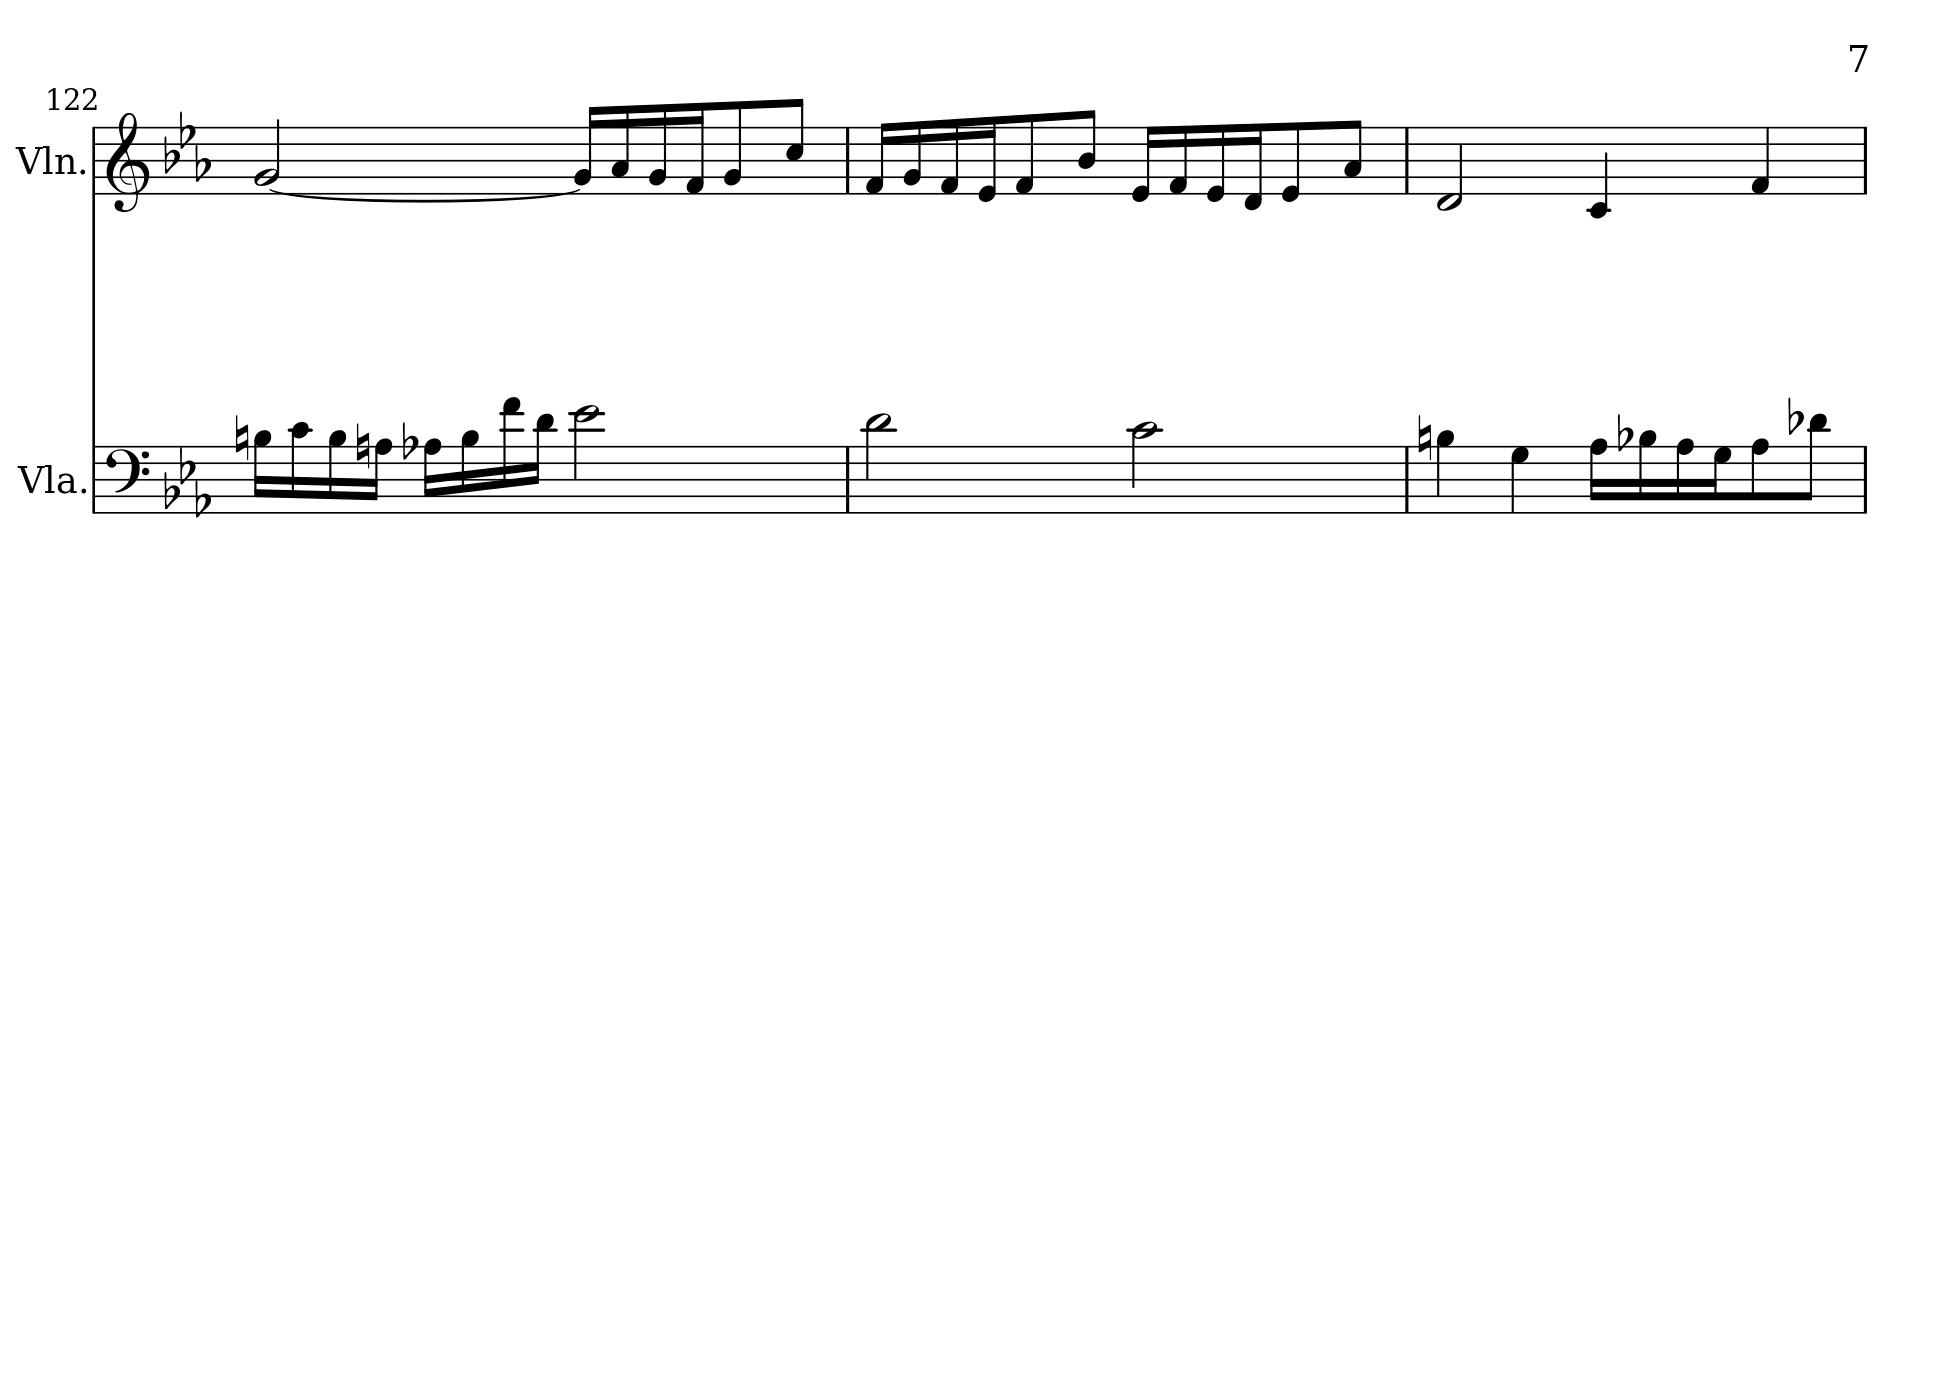1: (46, 85, 60, 112)
16_-1: (1242, 121, 1264, 211)
16_0: (1128, 124, 1161, 204), (973, 114, 999, 205), (1203, 121, 1228, 202)
16_1: (862, 120, 894, 196), (682, 100, 706, 196), (937, 115, 961, 196), (1167, 123, 1191, 196)
16_10: (288, 420, 313, 514)
16_11: (526, 411, 556, 514)
16_13: (499, 394, 523, 514)
16_2: (571, 103, 601, 196), (646, 100, 669, 196), (901, 118, 924, 196)
16_3: (609, 103, 631, 196)
16_7: (1705, 444, 1732, 514)
16_8: (366, 436, 393, 514), (1587, 436, 1609, 514), (421, 436, 442, 514), (1674, 436, 1695, 514)
16_9: (1636, 427, 1659, 514), (325, 426, 346, 516), (250, 427, 271, 514), (459, 427, 478, 516)
2: (79, 85, 99, 111), (61, 85, 79, 112)
2_-1: (1435, 124, 1464, 211)
2_10: (1129, 418, 1161, 517)
2_11: (862, 411, 894, 516)
2_12: (570, 403, 603, 516)
2_2: (253, 115, 282, 196)
4_-2: (1587, 124, 1611, 219)
4_1: (1749, 124, 1773, 196)
4_7: (1509, 444, 1531, 514)
4_9: (1434, 427, 1455, 514)
7: (1848, 39, 1870, 73)
8_0: (1279, 120, 1303, 204)
8_1: (1012, 111, 1038, 196)
8_11: (1797, 412, 1830, 514)
8_2: (721, 97, 745, 196)
8_3: (1342, 118, 1365, 196)
8_4: (1075, 108, 1098, 196)
8_5: (783, 96, 805, 196)
8_8: (1749, 436, 1771, 514)
E_F: (163, 109, 213, 183), (163, 445, 211, 517)
Fclef: (103, 442, 151, 514)
Flat: (1614, 411, 1632, 454), (1785, 394, 1803, 436), (400, 418, 417, 462)
Gclef: (105, 109, 148, 214)
Natural: (1416, 409, 1434, 462), (232, 412, 250, 463), (354, 418, 370, 469)
Single_barline: (1855, 445, 1875, 514), (838, 126, 856, 193), (838, 445, 856, 511), (1398, 445, 1416, 511), (1399, 126, 1416, 193), (1857, 127, 1873, 193), (87, 126, 102, 193), (87, 445, 100, 513)
Slur: (268, 186, 588, 202)
Vla: (18, 457, 76, 501)
Vln: (15, 138, 78, 181)
